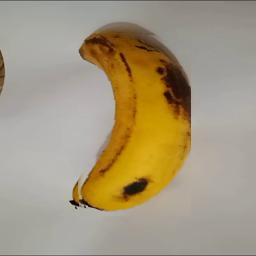Banana Semifresh: (70, 31, 191, 217)
